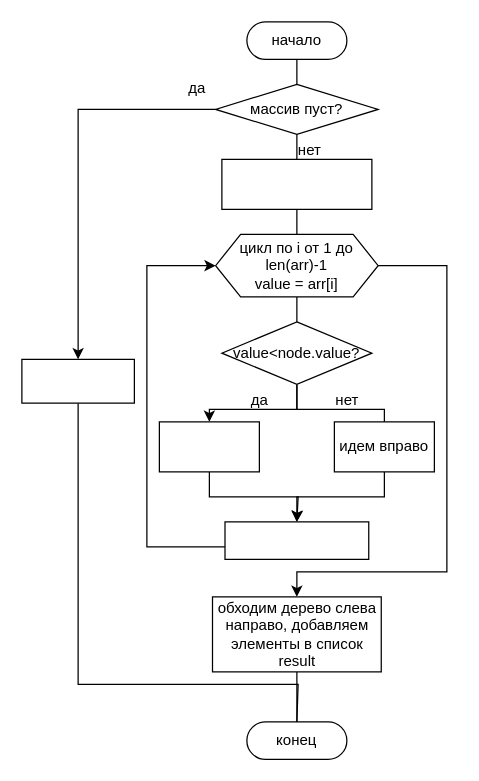
The diagram is 479 pixels wide and 781 high, and some of its shapes have lost their labels. The box of each missing label's shape, as (x1, y1, x2, y2) in pixels:
i = i + 1: (224, 521, 369, 559)
вернуть пустой список [ ]: (21, 358, 134, 403)
идем влево: (158, 421, 259, 472)
создаем корень root = arr[0]: (221, 158, 372, 209)
